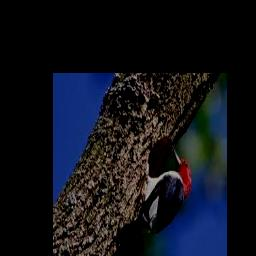Woodpecker: (116, 145, 191, 256)
